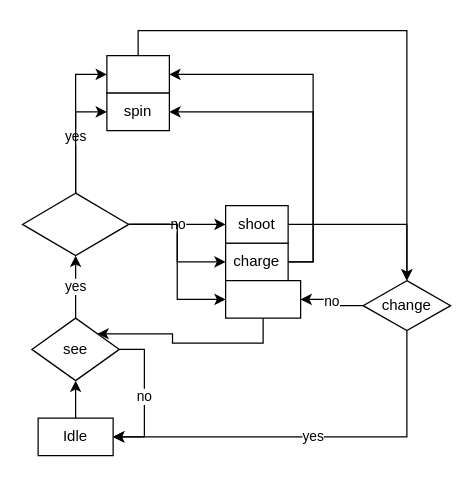
Image size: 473x478. Some labels were removed from this diagram. Here are the shapes that lost their labels. From the top down, the box of each, then its label:
(106, 54, 169, 93): Melee
(21, 192, 129, 256): near
(224, 279, 301, 318): backward
